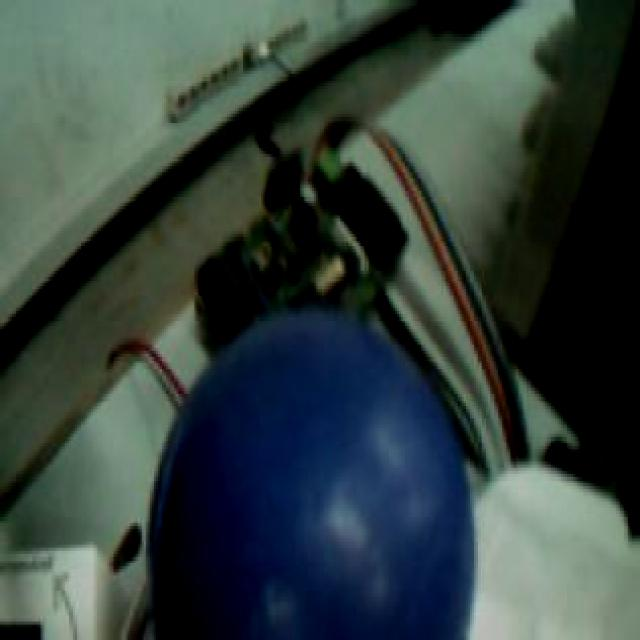BallPurple: (148, 310, 476, 640)
